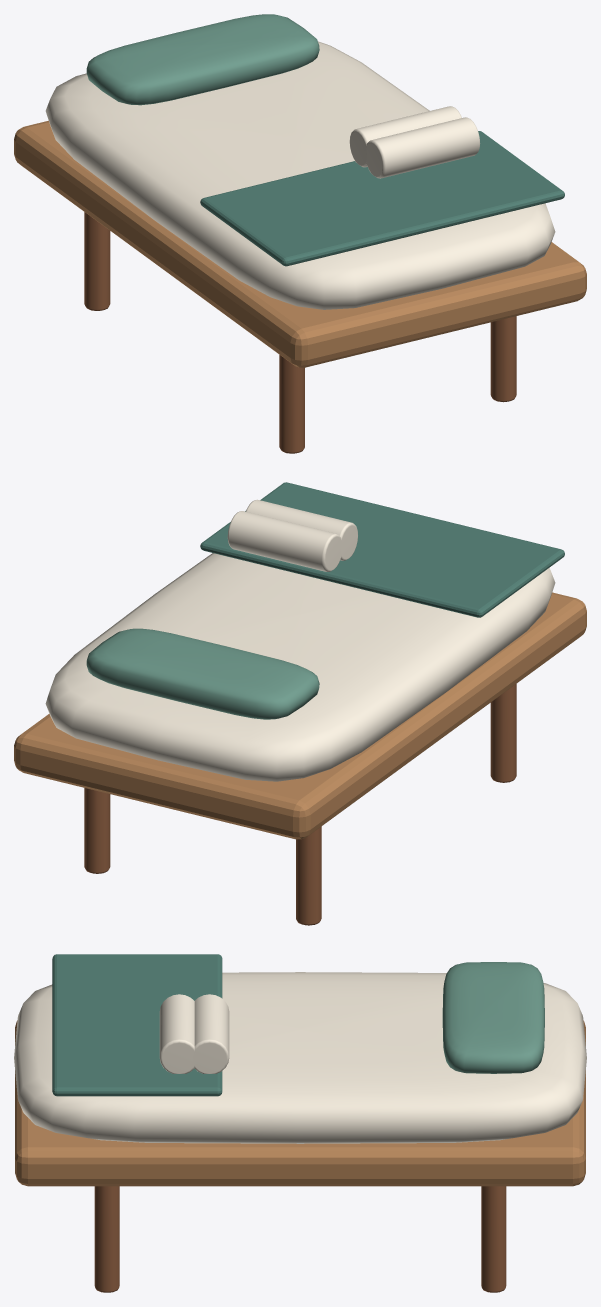
Rendered from spa-bed.glb.
3 renders of one model, top to bottom at view 1: azimuth 30°, elevation 25°; view 2: azimuth 150°, elevation 25°; view 3: azimuth 270°, elevation 25°, orthographic.
Parts seen in each view (by area): view 1: spa-bed / Warm linen, spa-bed / Oak, spa-bed / Sea glass runner, spa-bed / Sea glass upholstery, spa-bed / Oak endgrain; view 2: spa-bed / Warm linen, spa-bed / Oak, spa-bed / Sea glass runner, spa-bed / Sea glass upholstery, spa-bed / Oak endgrain; view 3: spa-bed / Warm linen, spa-bed / Oak, spa-bed / Sea glass runner, spa-bed / Sea glass upholstery, spa-bed / Oak endgrain.
Boxes of the visible parts, <box> form: spa-bed / Warm linen: <box>45,41,555,309</box>; spa-bed / Oak: <box>14,120,586,367</box>; spa-bed / Sea glass runner: <box>200,131,564,266</box>; spa-bed / Sea glass upholstery: <box>86,14,319,105</box>; spa-bed / Oak endgrain: <box>84,212,516,453</box>; spa-bed / Warm linen: <box>45,499,555,781</box>; spa-bed / Oak: <box>14,592,586,839</box>; spa-bed / Sea glass runner: <box>200,482,564,617</box>; spa-bed / Sea glass upholstery: <box>86,628,319,719</box>; spa-bed / Oak endgrain: <box>84,684,516,925</box>; spa-bed / Warm linen: <box>14,972,586,1143</box>; spa-bed / Oak: <box>15,1020,585,1186</box>; spa-bed / Sea glass runner: <box>52,954,222,1096</box>; spa-bed / Sea glass upholstery: <box>442,962,544,1073</box>; spa-bed / Oak endgrain: <box>94,1186,506,1292</box>.
Bounding box in the file's own units: 1.46 × 1.19 × 2.46.
